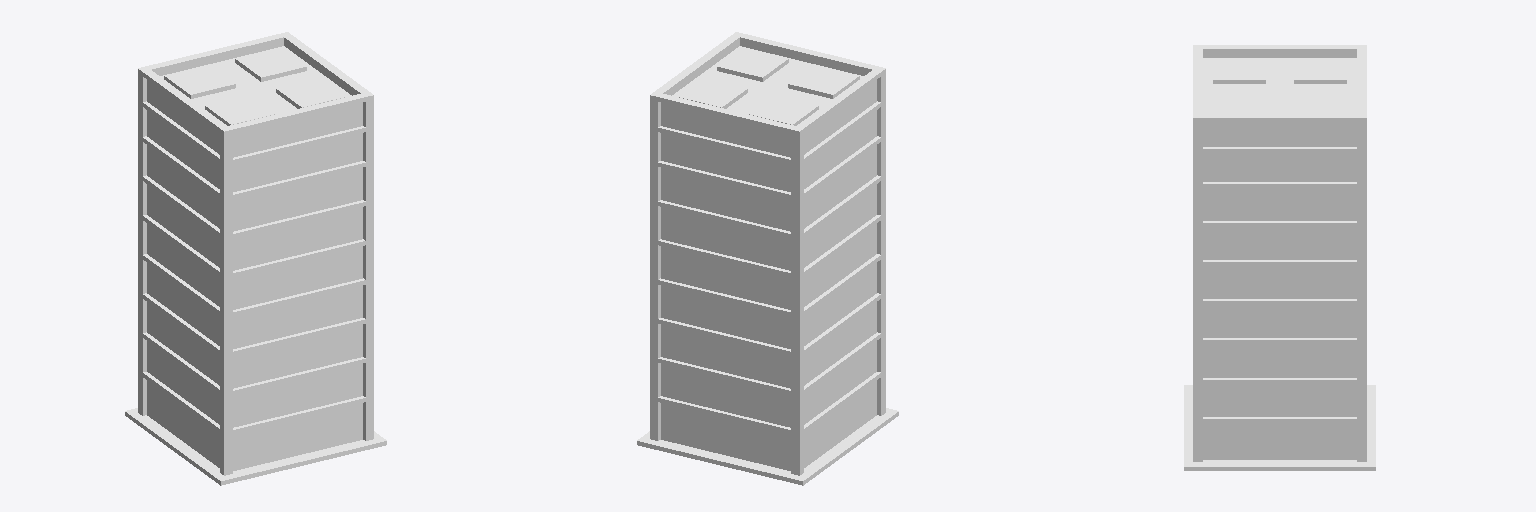
The model's file is Asset-22.obj.
3 views of the same model, side by side, from view 1: azimuth 30°, elevation 25°; view 2: azimuth 150°, elevation 25°; view 3: azimuth 270°, elevation 25° (orthographic).
Parts seen in each view (by area): view 1: Asset-22; view 2: Asset-22; view 3: Asset-22.
Boxes of the visible parts, x1,y1,x2,y2 form: Asset-22: [125, 32, 386, 485]; Asset-22: [637, 32, 898, 485]; Asset-22: [1184, 45, 1375, 470].
Bounding box in the file's own units: 40 × 80 × 40.